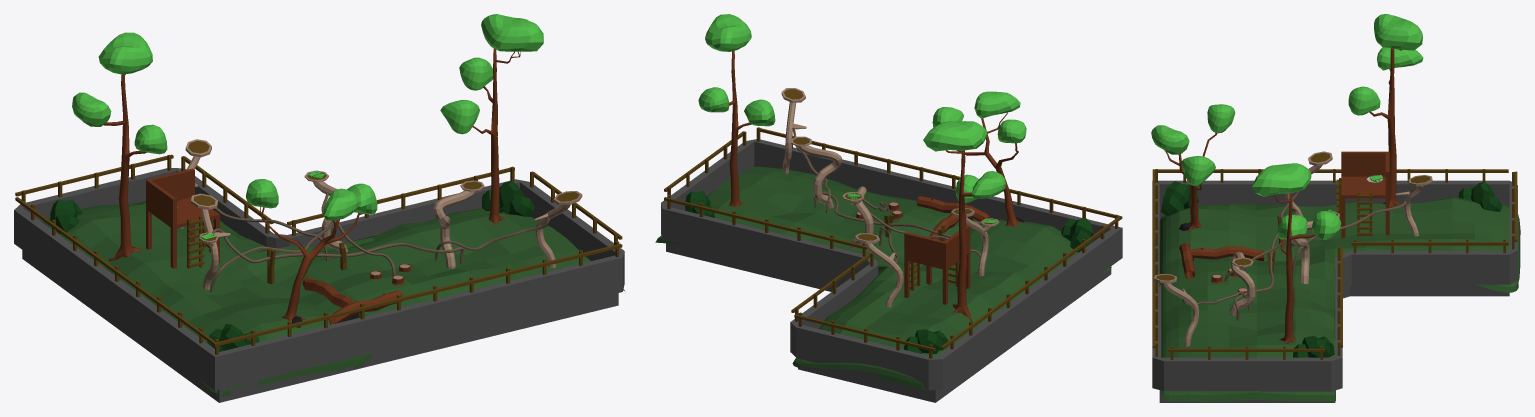
File: Red_Panda_Level_4.fbx
3 views of the same model, side by side, from view 1: azimuth 30°, elevation 25°; view 2: azimuth 150°, elevation 25°; view 3: azimuth 270°, elevation 25° (orthographic). The views are drawn at different scales.
Parts seen in each view (by area): view 1: Ground.011; view 2: Ground.011; view 3: Ground.011.
Boxes of the visible parts, box(x1,y1,x2,y2) form: Ground.011: box(14, 14, 624, 402); Ground.011: box(655, 14, 1122, 402); Ground.011: box(1151, 14, 1520, 402).
Size of the model in its own units: 3091 by 1790 by 2635.
